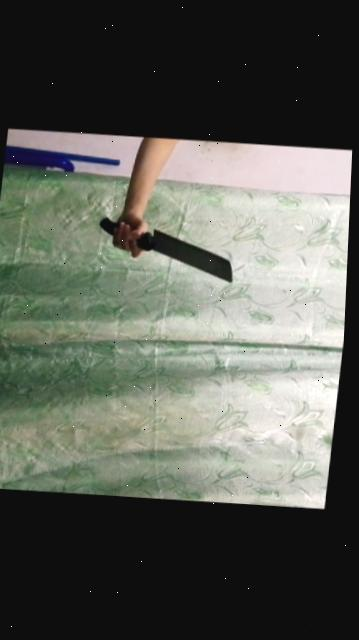long knife: (85, 203, 248, 299)
